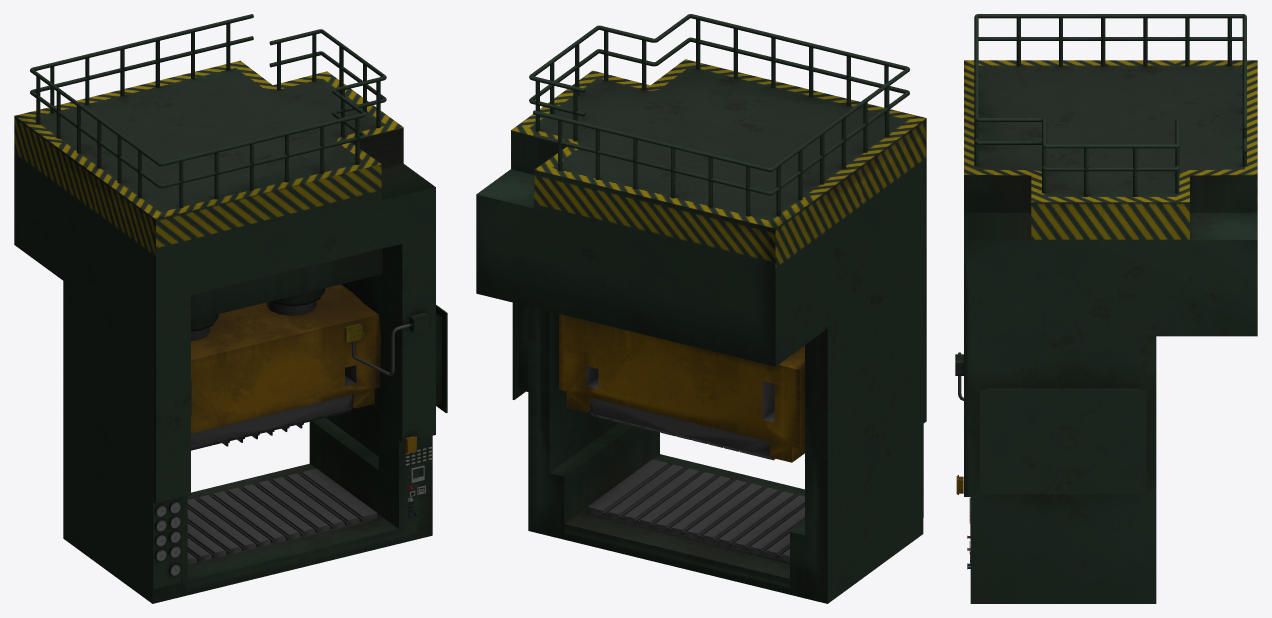
The model's file is hydraulicpressStation.fbx.
3 renders of one model, left to right at view 1: azimuth 30°, elevation 25°; view 2: azimuth 150°, elevation 25°; view 3: azimuth 270°, elevation 25°, orthographic. The views are drawn at different scales.
Visible parts, largest first — view 1: hydraulicpressStation; view 2: hydraulicpressStation; view 3: hydraulicpressStation.
Boxes of the visible parts, <box> form: hydraulicpressStation: <box>14,14,447,603</box>; hydraulicpressStation: <box>476,14,926,603</box>; hydraulicpressStation: <box>955,14,1257,603</box>.
Size of the model in its own units: 425 by 593 by 358.
1 material, 1 textured.
